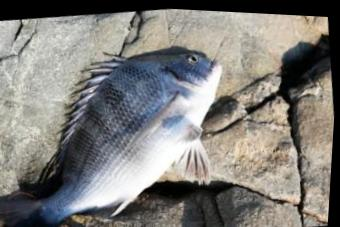fish: (1, 43, 224, 227)
